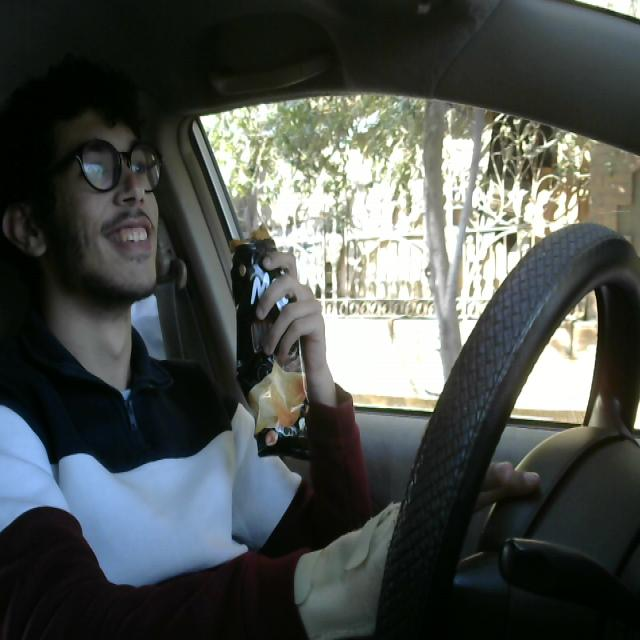eating: (219, 222, 321, 468)
